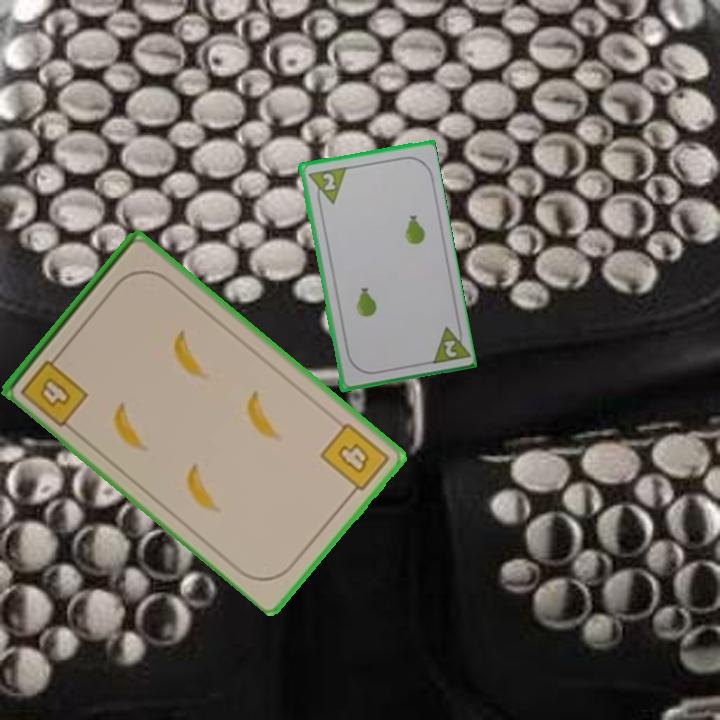2p: (426, 319, 470, 367), (304, 163, 348, 209)
4b: (316, 419, 393, 501), (17, 348, 92, 430)
